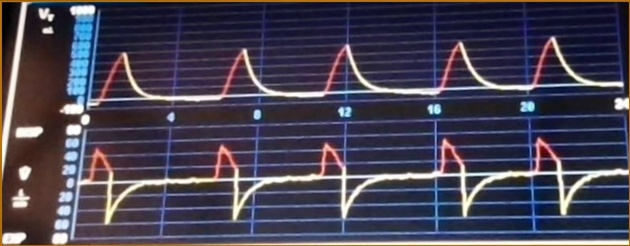Normal Flow: (82, 137, 629, 223)
Normal Volume: (92, 33, 622, 103)
